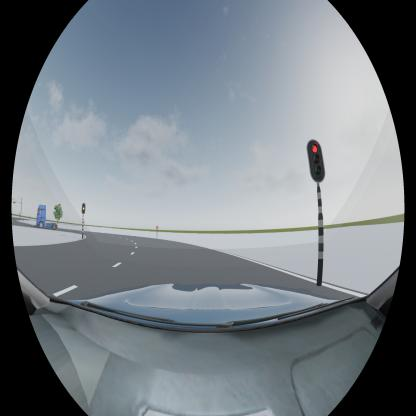Red Light: (306, 140, 327, 184)
